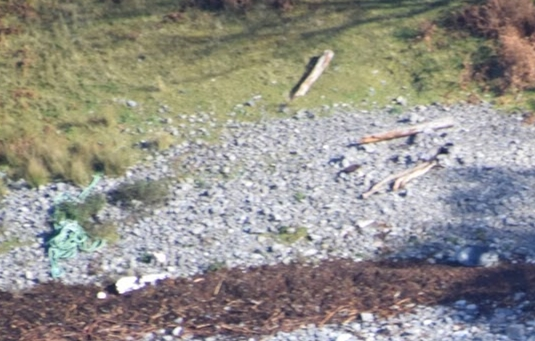net: (48, 218, 107, 275)
straight_bar: (344, 112, 457, 152), (279, 44, 336, 104), (358, 159, 431, 200), (110, 267, 173, 297)
white_in_green: (84, 276, 119, 311)
